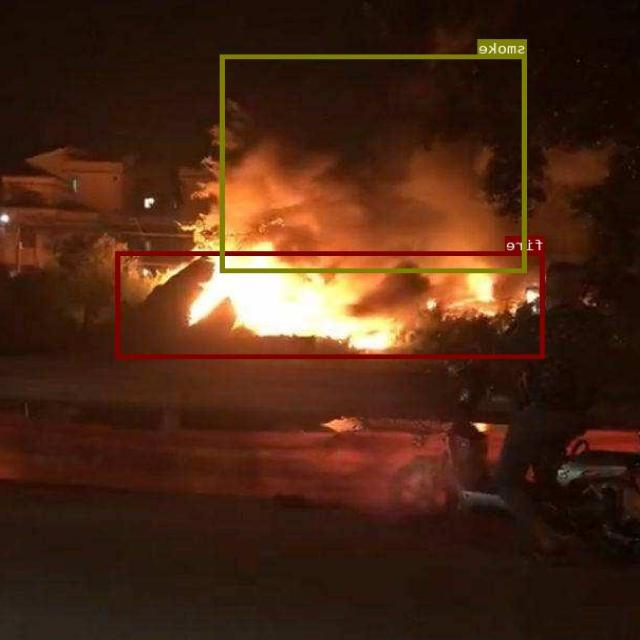fire: (117, 250, 546, 358)
smoke: (222, 54, 528, 272)
